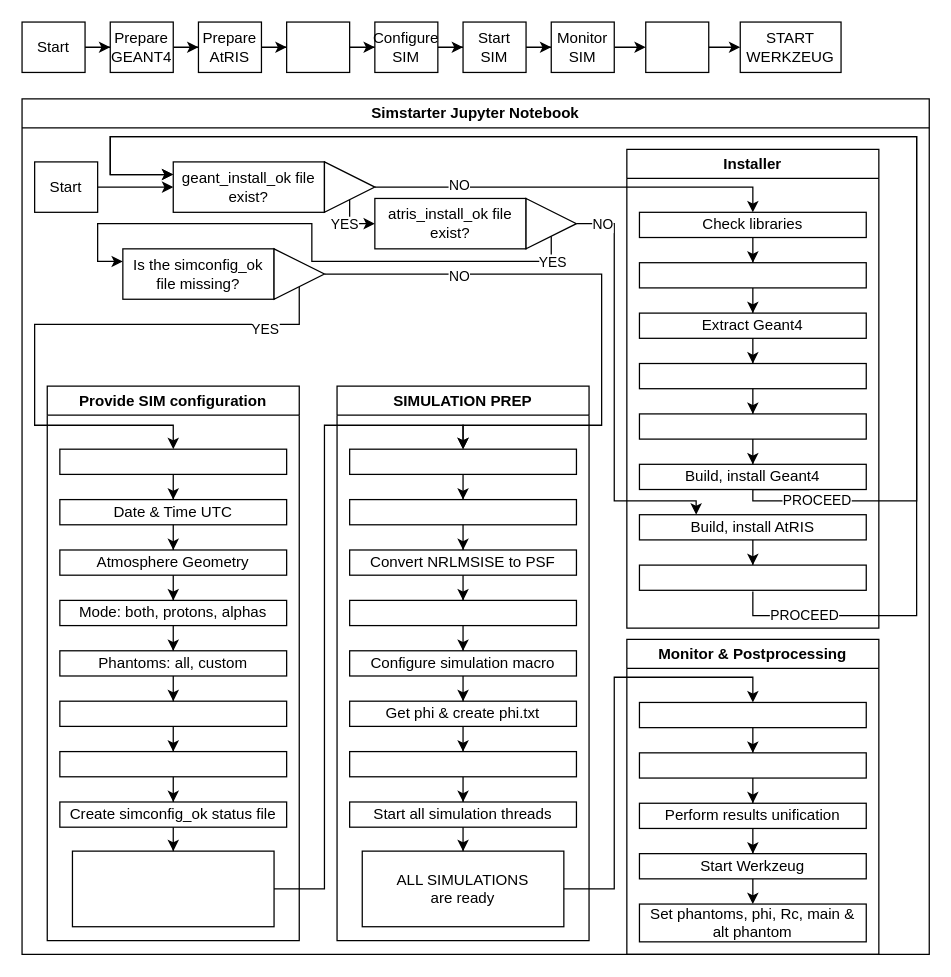
This 951x977 diagram has some shape labels left out. Each missing label, with the centre of its shape:
"ALL SIMULATIONS PARAMETERS ARE KNOWN" goes at pixel 172 888.
"Configure build" goes at pixel 752 426.
"Convert PSF to GDML" goes at pixel 462 612.
"Coordinates" goes at pixel 173 461.
"Copy phantom files" goes at pixel 462 461.
"Create configuration.txt" goes at pixel 462 763.
"Create folders for build & install" goes at pixel 752 375.
"Create install_ok status file" goes at pixel 752 577.
"Download newest Geant4" goes at pixel 752 274.
"Get NRLMSISE data" goes at pixel 462 511.
"Monitor simulations using config" goes at pixel 752 765.
"Number of particles" goes at pixel 173 713.
"Number of threads" goes at pixel 173 763.
"Prepare SIM" goes at pixel 317 46.
"Start all simulations" goes at pixel 752 714.
"Unite OUTPUT" goes at pixel 676 46.
